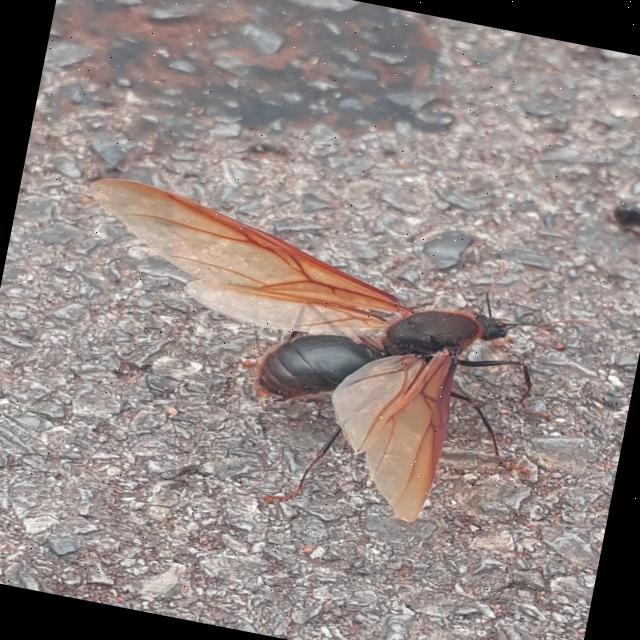Alive-Male-Alate: (36, 172, 592, 548)
